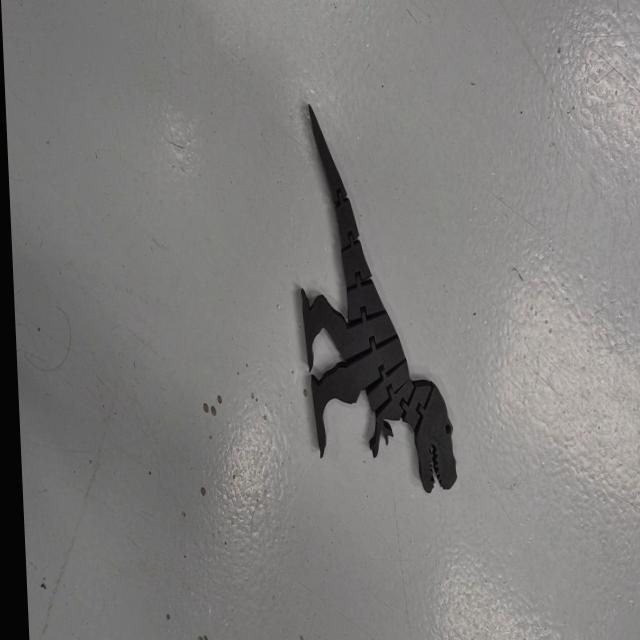dino: (291, 102, 458, 494)
